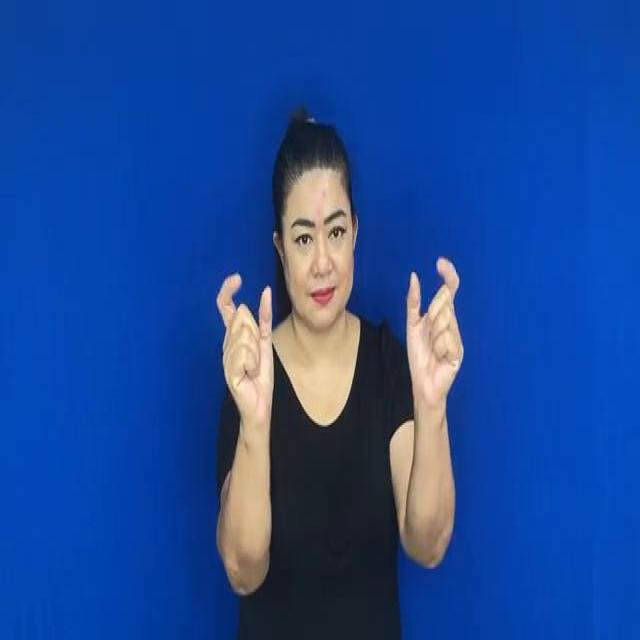crab: (197, 244, 474, 418)
